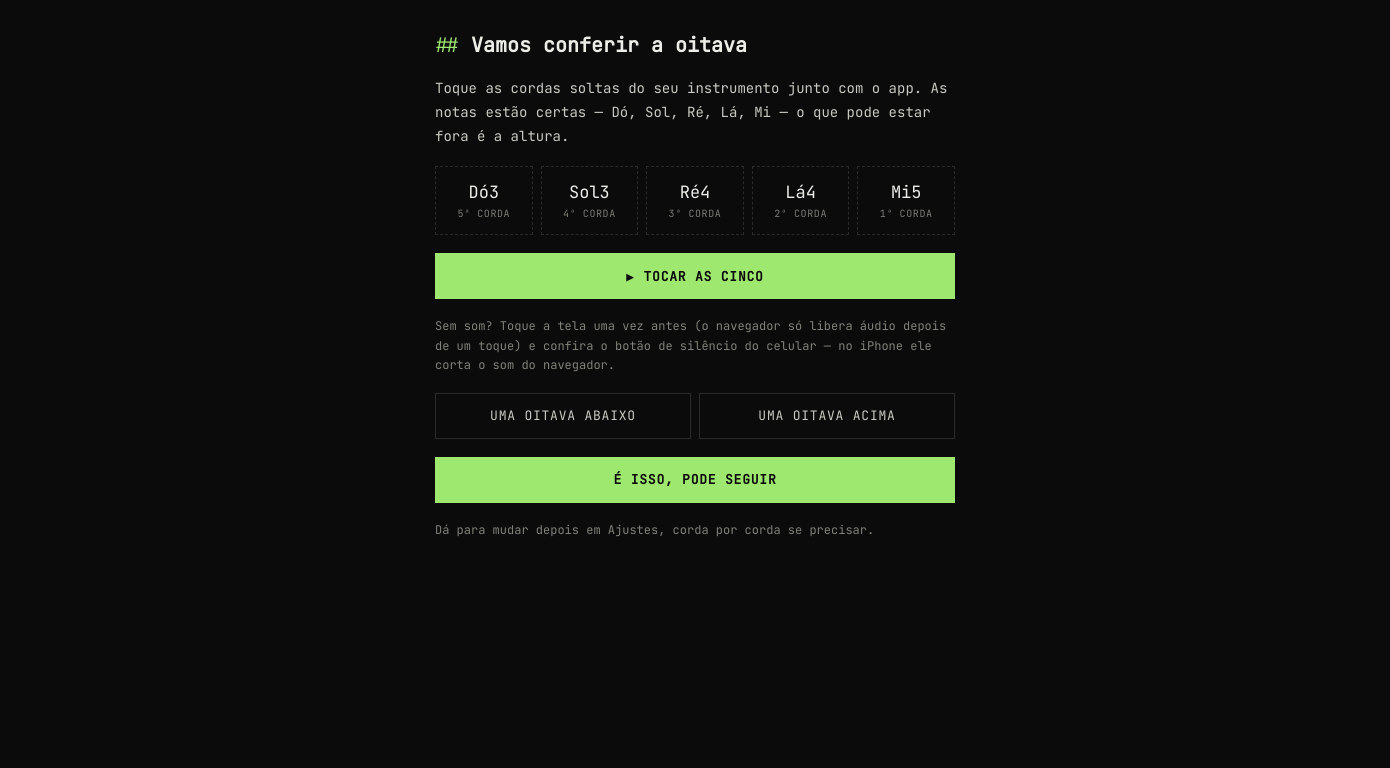
app › o modo "nomear" pergunta pelo nome e aceita o botão da nota
The width and height of the screenshot is (1390, 768).
Click the button "É isso, pode seguir".
click(695, 480)  # box x1=435 y1=457 x2=955 y2=503
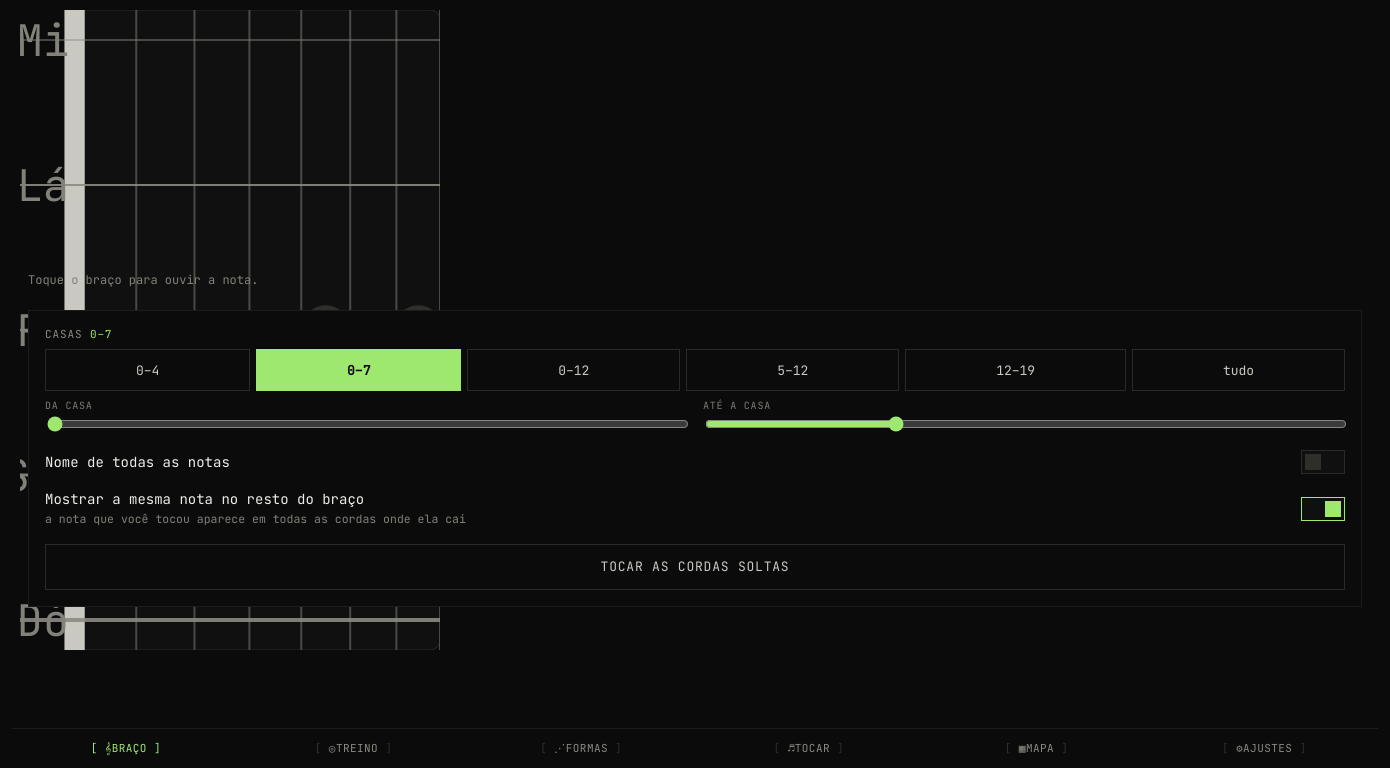
Click the button "◎Treino".
click(354, 748)  # box x1=240 y1=729 x2=467 y2=767
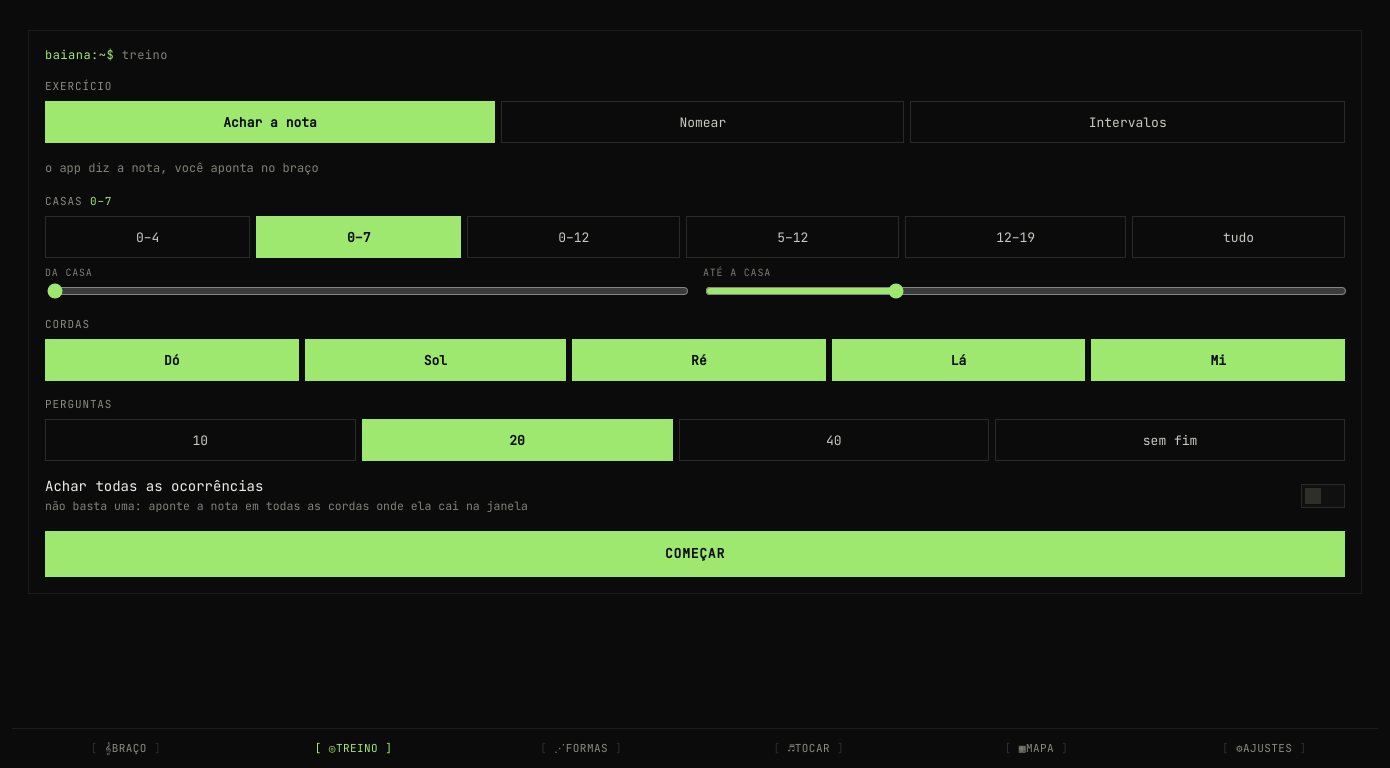
Click the button "Nomear".
click(703, 122)  # box x1=501 y1=101 x2=904 y2=143
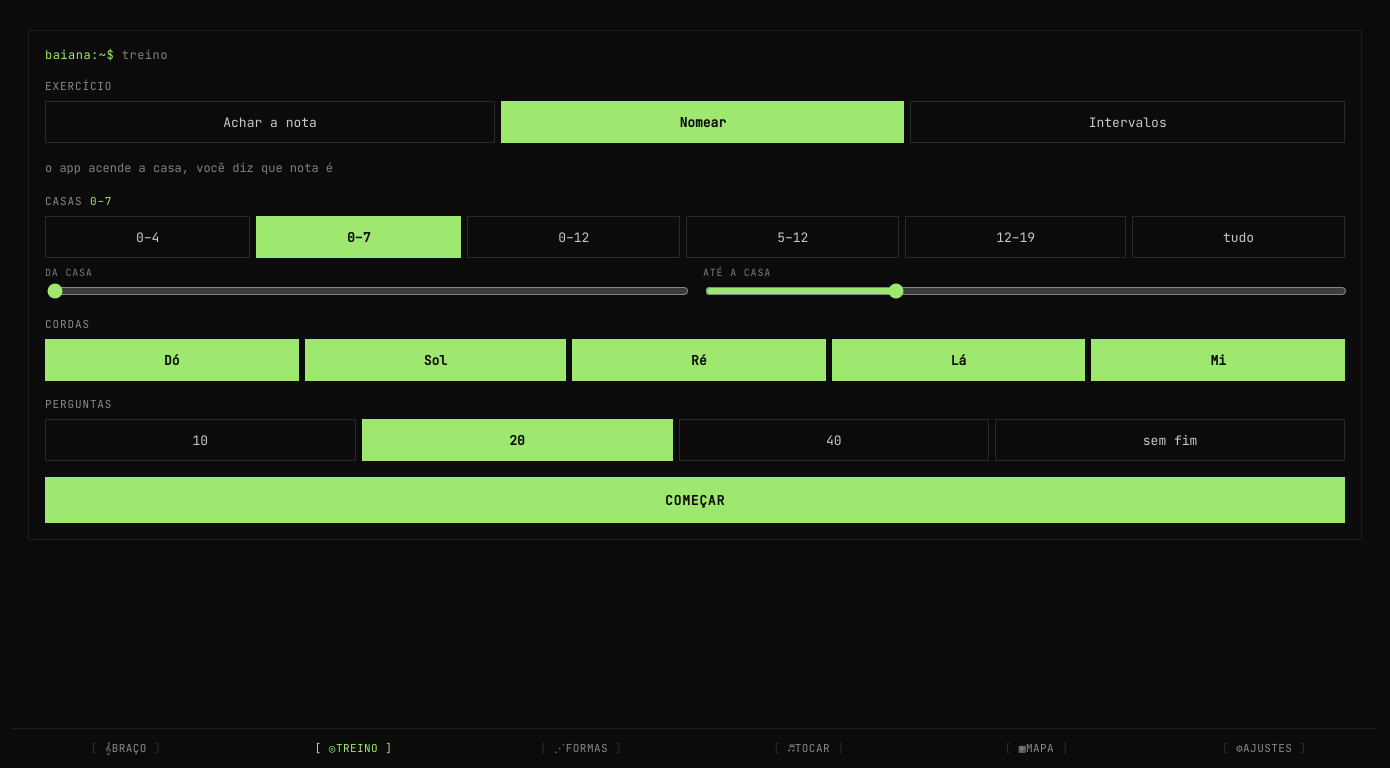
Click the button "Começar".
click(695, 500)  # box x1=45 y1=477 x2=1345 y2=523
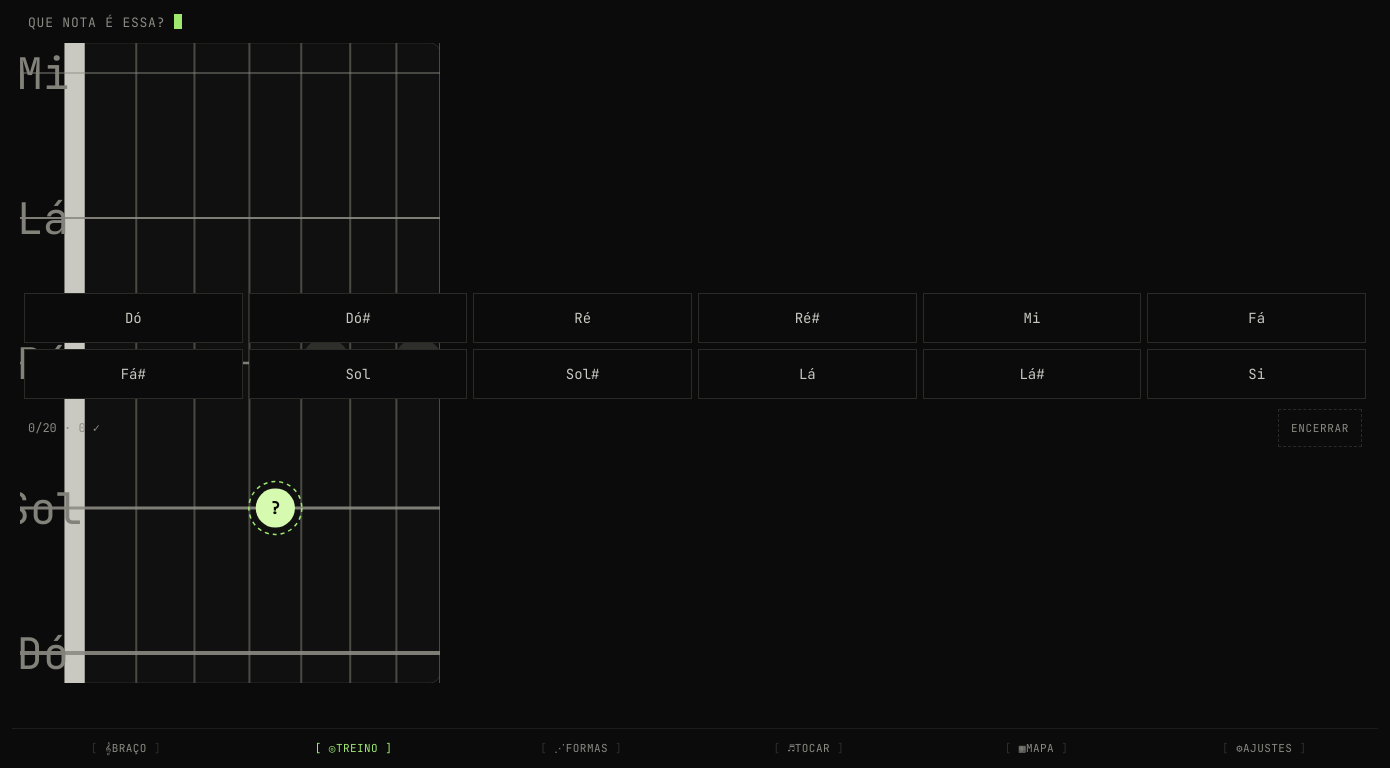
Result: the text "Que nota é essa?" is shown at x1=28 y1=14 x2=182 y2=31
Click the button "Dó".
click(133, 318)  # box x1=24 y1=293 x2=243 y2=343
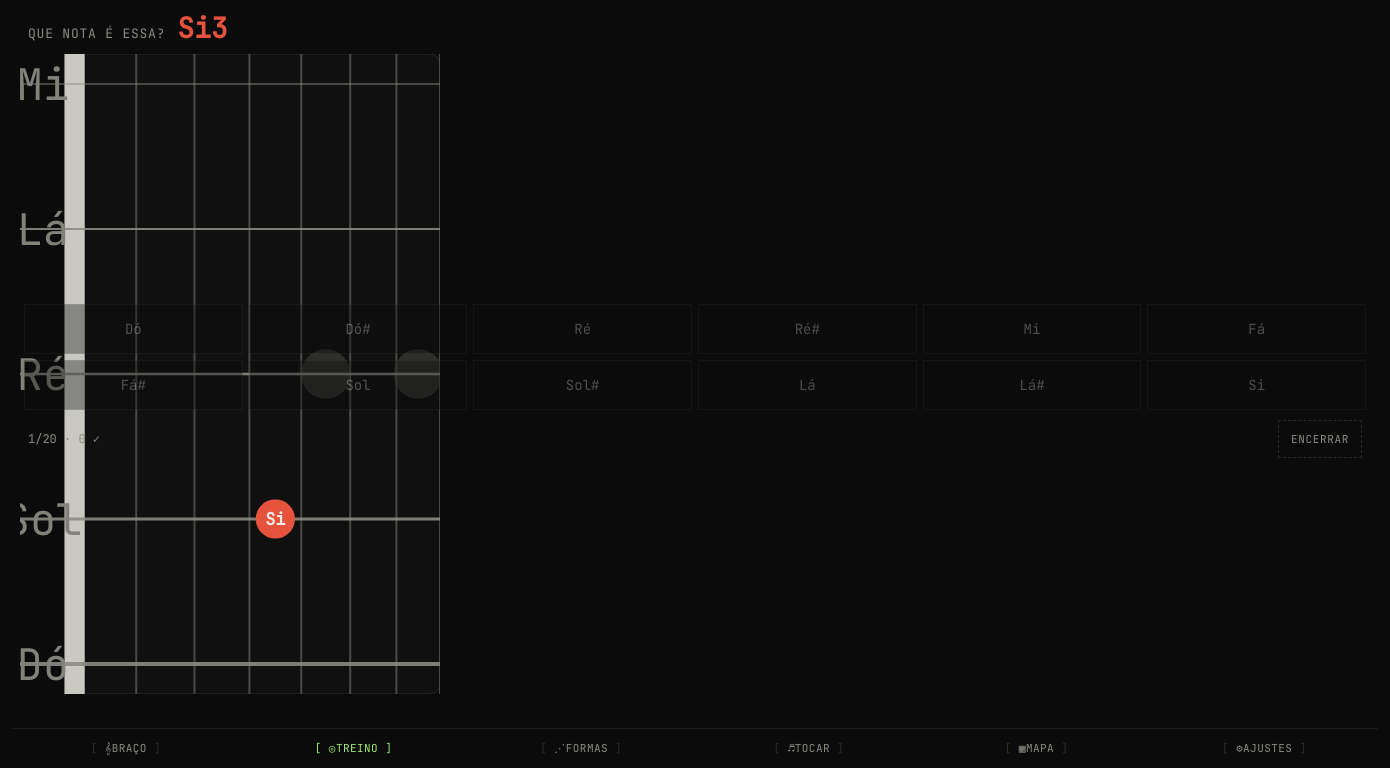
Result: the text "1/20 · 0 ✓" is shown at x1=28 y1=431 x2=100 y2=447
